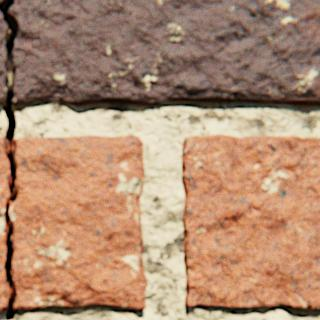brick: (181, 135, 319, 309)
broken_brick: (8, 0, 319, 107), (9, 136, 146, 310), (0, 138, 9, 311), (0, 14, 8, 104), (0, 0, 5, 9)
crack: (0, 0, 18, 319)
